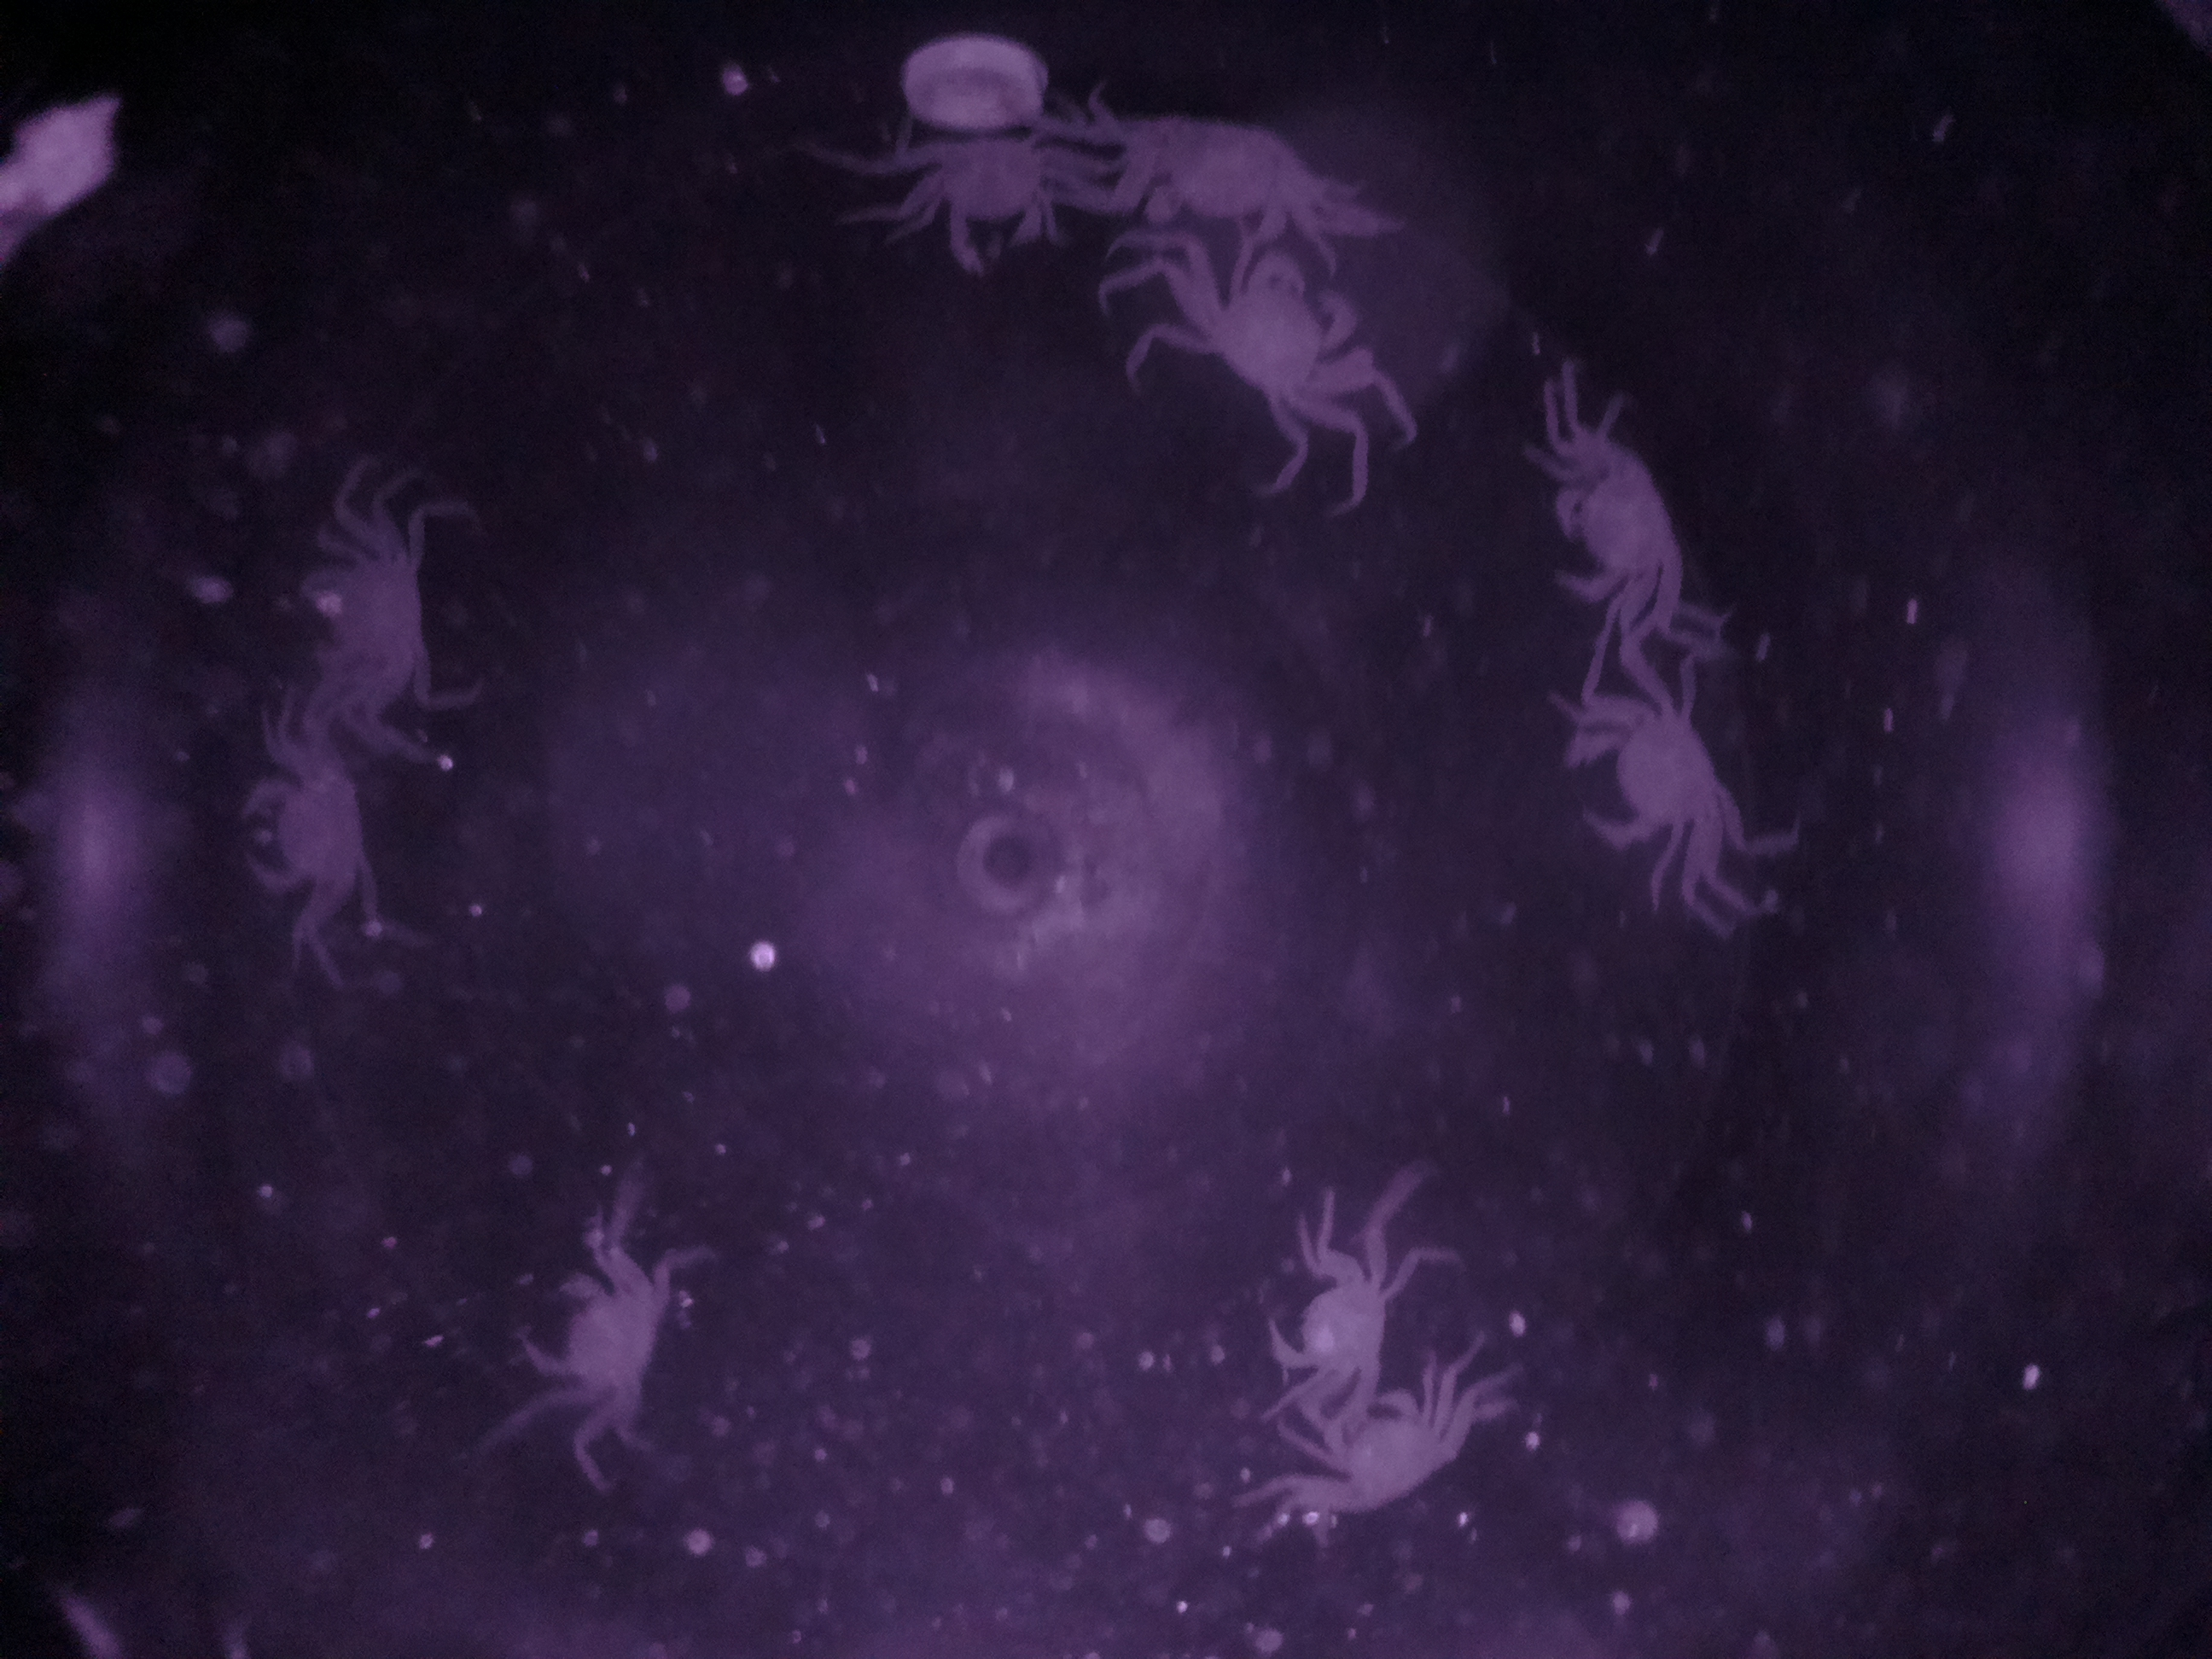Crab: (1552, 676, 1754, 894), (897, 103, 1087, 305), (1536, 420, 1709, 636), (1238, 1202, 1402, 1410), (1191, 244, 1372, 429), (510, 1239, 671, 1443), (219, 744, 408, 917)
